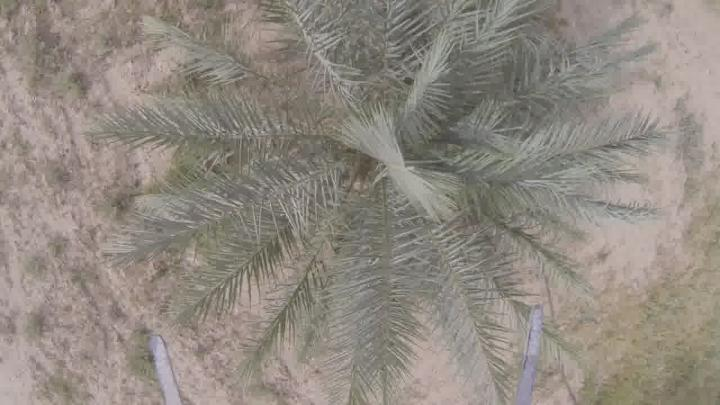Date-Palm-Crown: (222, 0, 518, 300)
